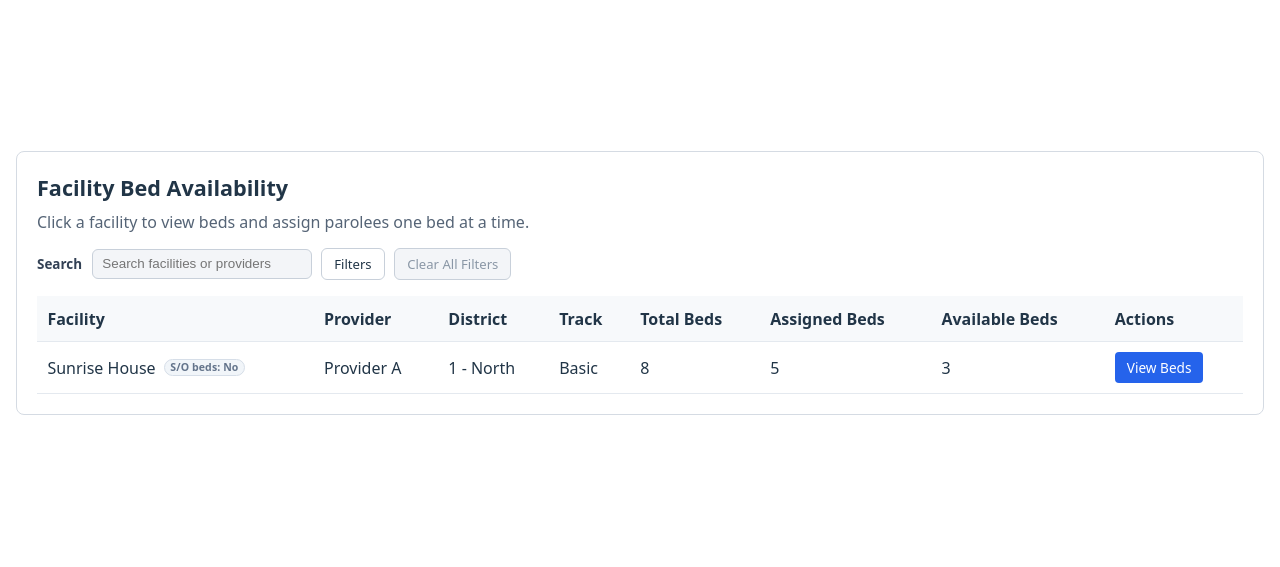
Scenario: MainDash › shows facility bed rows when the facility is expanded
This screenshot has width=1280, height=567.
Expected: the text "Sunrise House" is shown, [47,356,156,380]
Click the button "View Beds" at (1159, 368), box [1115,352,1204,383]
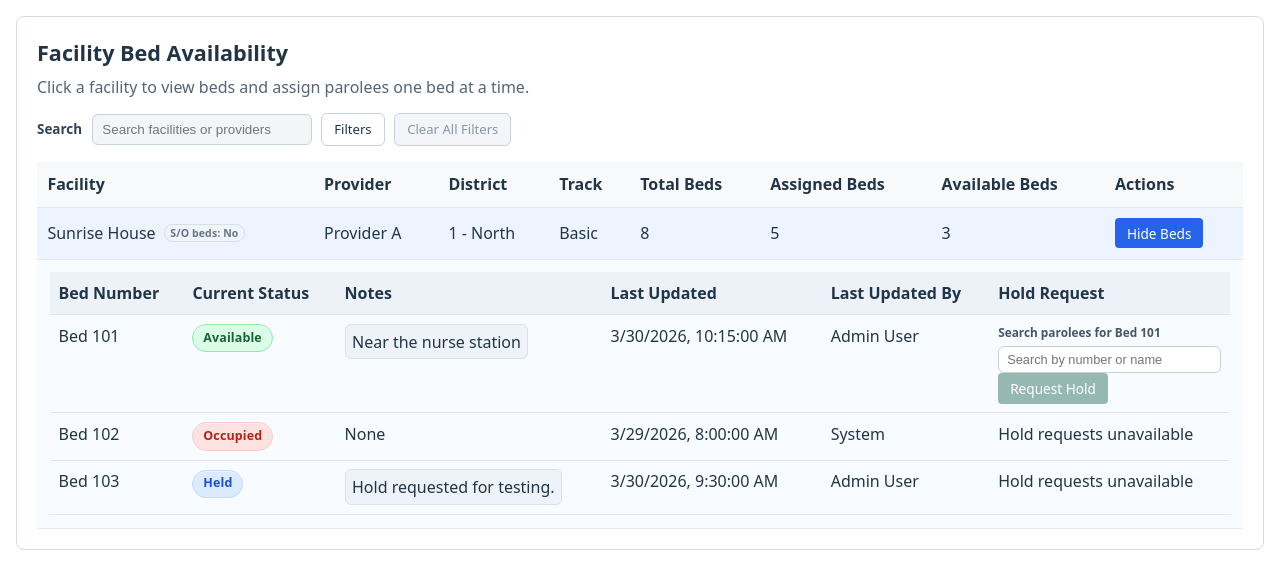
Now the text "Bed 101" is shown, box [50,314,184,413]
Now the text "Available" is shown, box [192,324,273,352]
Now the text "Near the nurse station" is shown, box [352,331,521,353]
